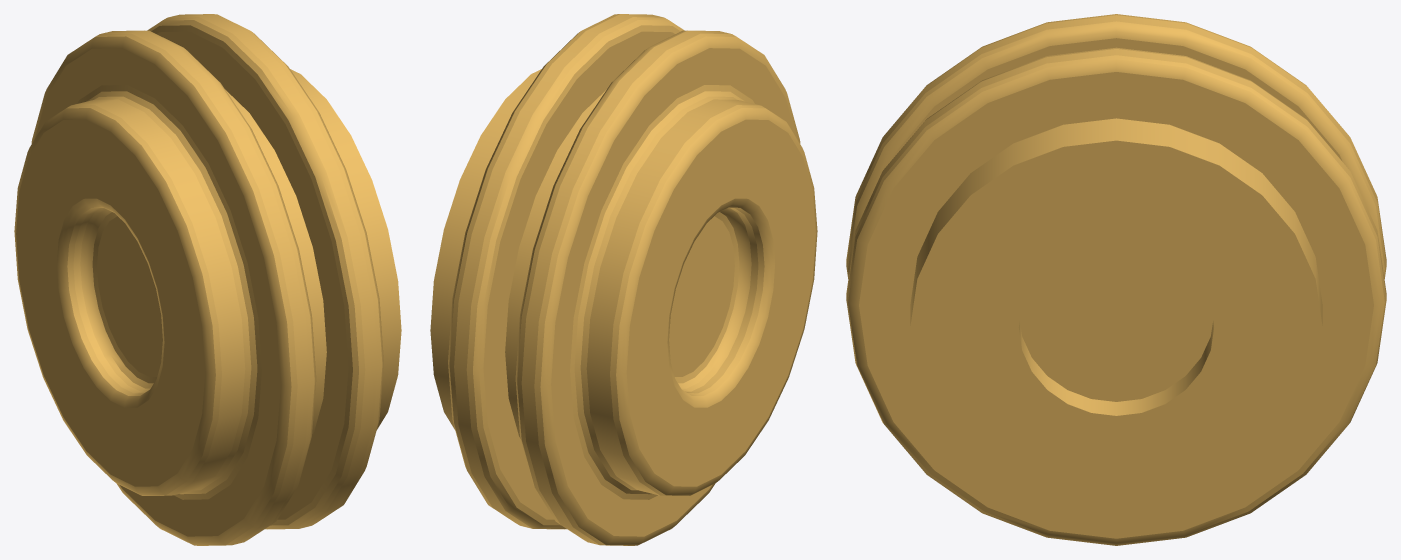
Rendered from rueda_pequeña1.fbx.
The picture shows the model from 3 angles, left to right: view 1: azimuth 30°, elevation 25°; view 2: azimuth 150°, elevation 25°; view 3: azimuth 270°, elevation 25°; orthographic projection. The views are drawn at different scales.
Visible parts, largest first — view 1: Cylinder.017; view 2: Cylinder.017; view 3: Cylinder.017.
Part boxes in pixels (x1,y1,x2,y2): Cylinder.017: (14, 14, 401, 545); Cylinder.017: (430, 14, 817, 545); Cylinder.017: (846, 14, 1386, 545).
Size of the model in its own units: 119 by 286 by 286.
